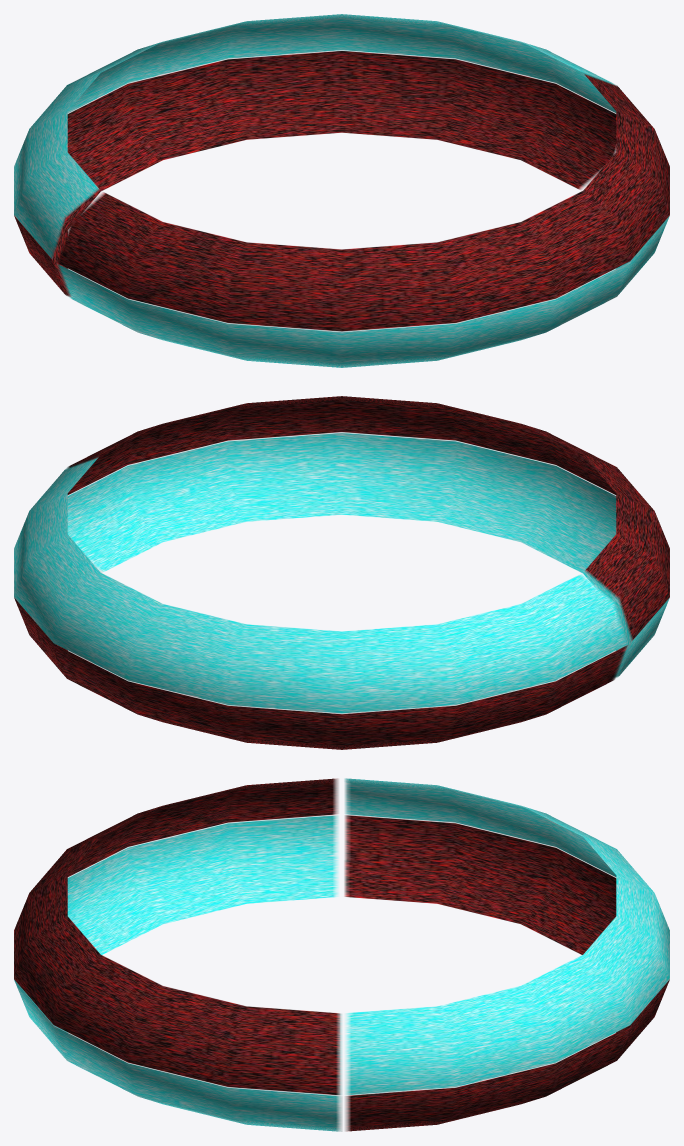
The picture shows the model from 3 angles, top to bottom: view 1: azimuth 30°, elevation 25°; view 2: azimuth 150°, elevation 25°; view 3: azimuth 270°, elevation 25°; orthographic projection.
Parts seen in each view (by area): view 1: SM_VFX_Ring_144_LOD0; view 2: SM_VFX_Ring_144_LOD0; view 3: SM_VFX_Ring_144_LOD0.
Part boxes in pixels (<box>): SM_VFX_Ring_144_LOD0: <box>14,14,669,367</box>; SM_VFX_Ring_144_LOD0: <box>14,396,669,749</box>; SM_VFX_Ring_144_LOD0: <box>14,778,669,1131</box>.
Bounding box in the file's own units: 2.5 × 0.4924 × 2.46.
Materials: 1 (1 with a texture image).
